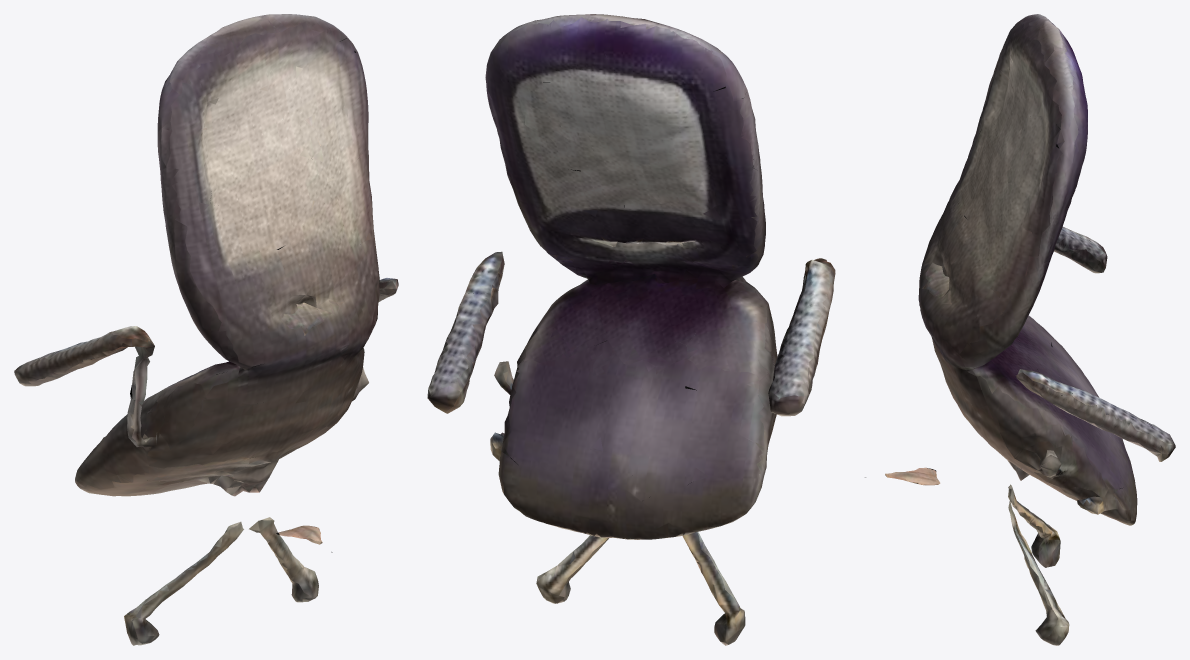
3 views of the same model, side by side, from view 1: azimuth 30°, elevation 25°; view 2: azimuth 150°, elevation 25°; view 3: azimuth 270°, elevation 25° (orthographic). The views are drawn at different scales.
Parts seen in each view (by area): view 1: world; view 2: world; view 3: world.
Part boxes in pixels (box(x1,y1,x2,y2)): world: box(14, 14, 398, 645); world: box(427, 14, 835, 645); world: box(865, 14, 1175, 645).
Bounding box in the file's own units: 0.5952 × 0.9631 × 0.4676.
Materials: 1 (1 with a texture image).
